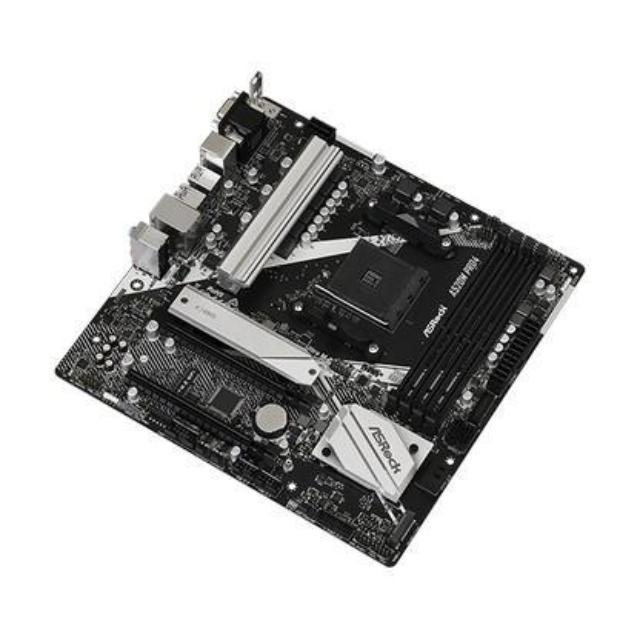Mainboard: (51, 91, 584, 564)
